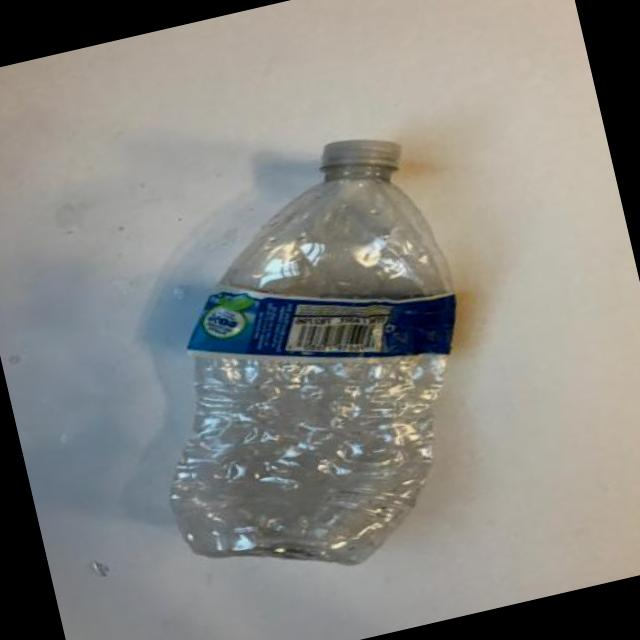bottle: (171, 349, 447, 564)
